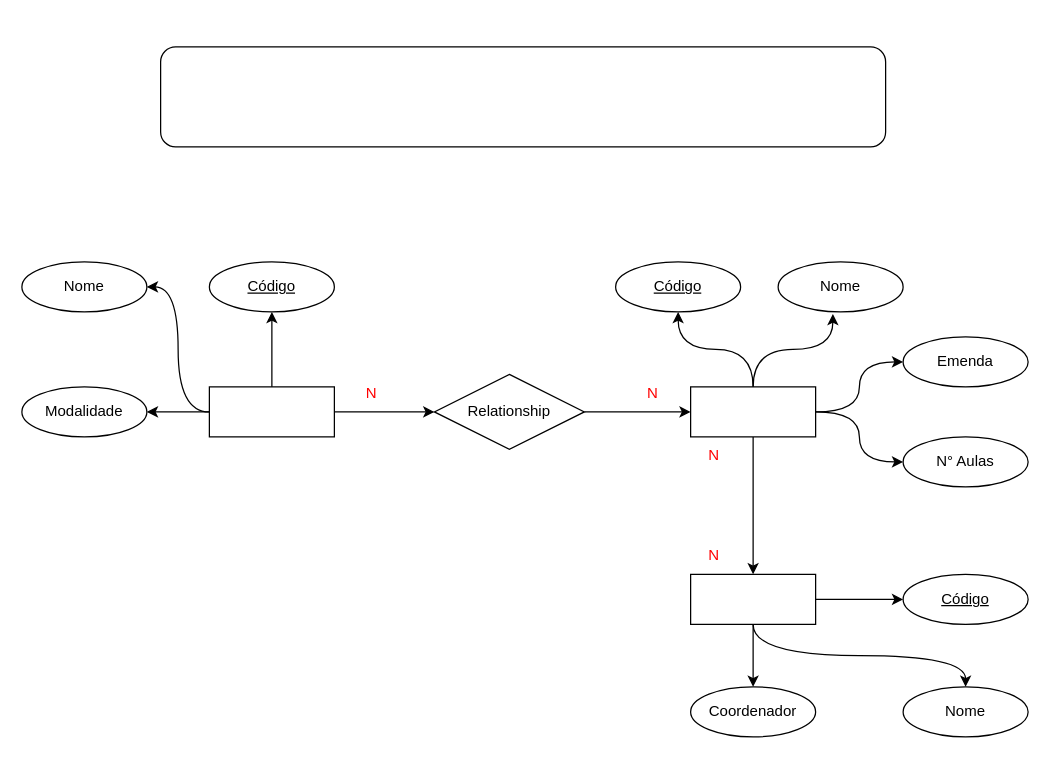
Image size: 1050x759. Some labels were removed from this diagram. Here are the shapes that lost their labels. From the top down, the centre of each, then its label:
pixel 522 96: Diagrama - Exercício 6, Slide 2
pixel 271 411: Professor
pixel 752 411: Disciplina
pixel 752 598: Curso
